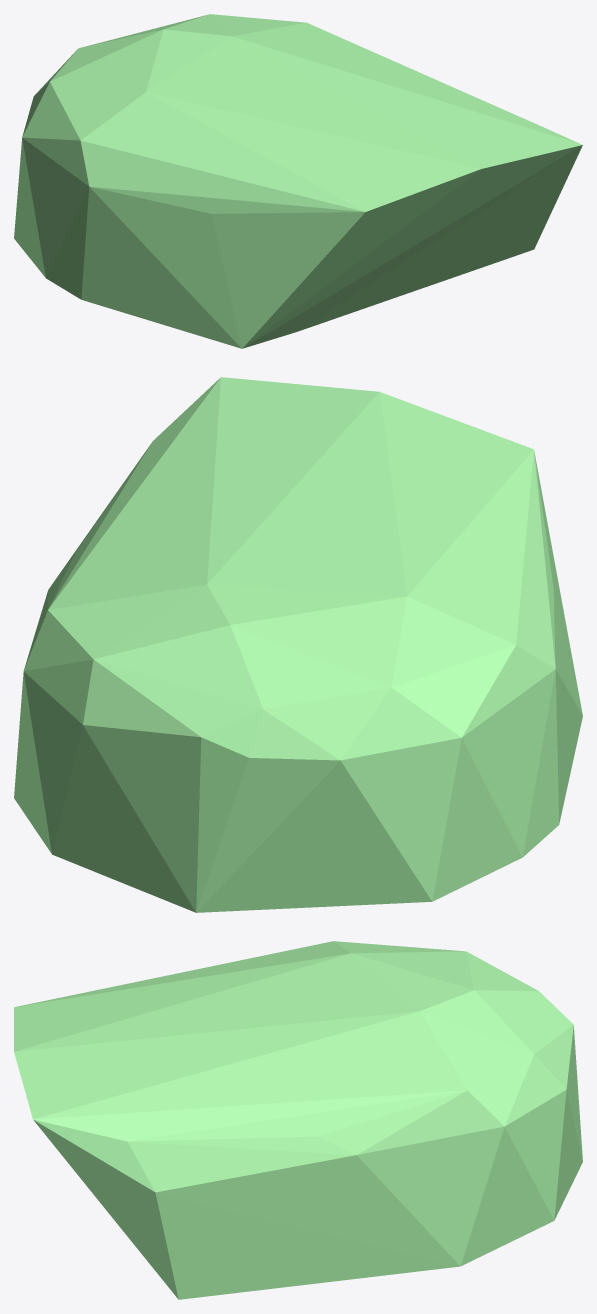
File: linkhou_LR4_R560_link2_respondable_coll_4.dae
3 renders of one model, top to bottom at view 1: azimuth 30°, elevation 25°; view 2: azimuth 150°, elevation 25°; view 3: azimuth 270°, elevation 25°, orthographic. The views are drawn at different scales.
Visible parts, largest first — view 1: Node_00000209DB3ABE50; view 2: Node_00000209DB3ABE50; view 3: Node_00000209DB3ABE50.
Boxes of the visible parts, left/top/right/bottom form: Node_00000209DB3ABE50: left=14, top=14, right=582, bottom=348; Node_00000209DB3ABE50: left=14, top=377, right=582, bottom=912; Node_00000209DB3ABE50: left=14, top=941, right=582, bottom=1299.
Bounding box in the file's own units: 0.1455 × 0.0607 × 0.1651.
